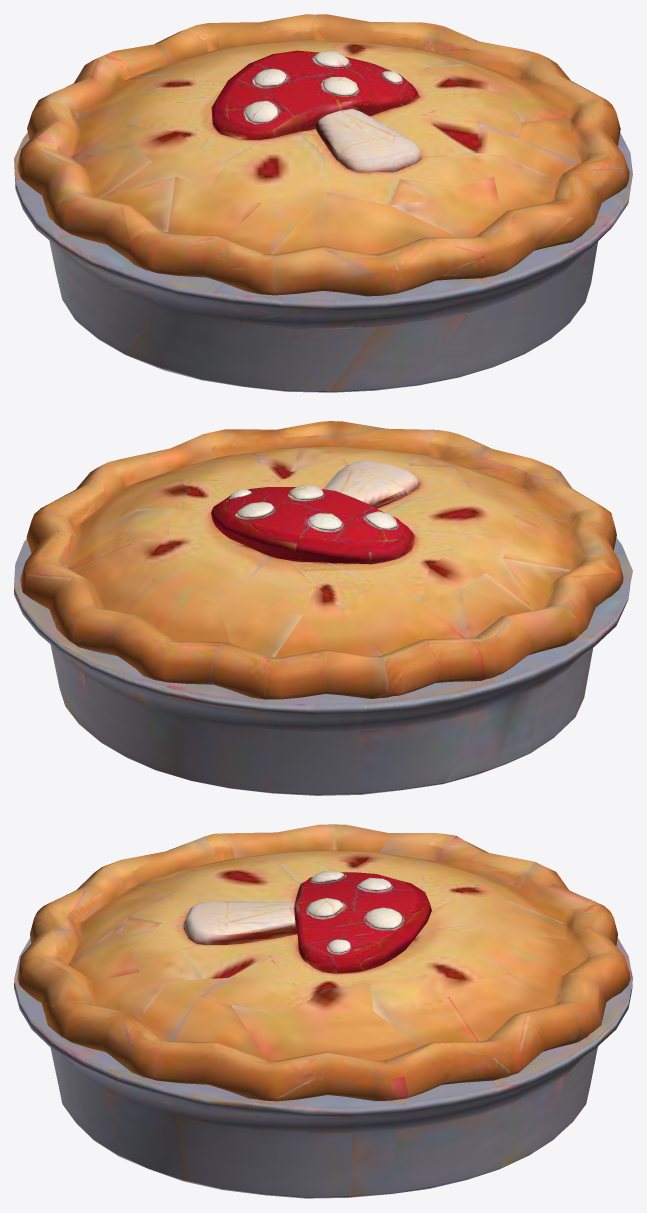
Rendered from item-puffcapPie.glb.
The picture shows the model from 3 angles, top to bottom: view 1: azimuth 30°, elevation 25°; view 2: azimuth 150°, elevation 25°; view 3: azimuth 270°, elevation 25°; orthographic projection.
Bounding box in the file's own units: 0.9492 × 0.3325 × 0.9561.
1 material, 1 textured.
